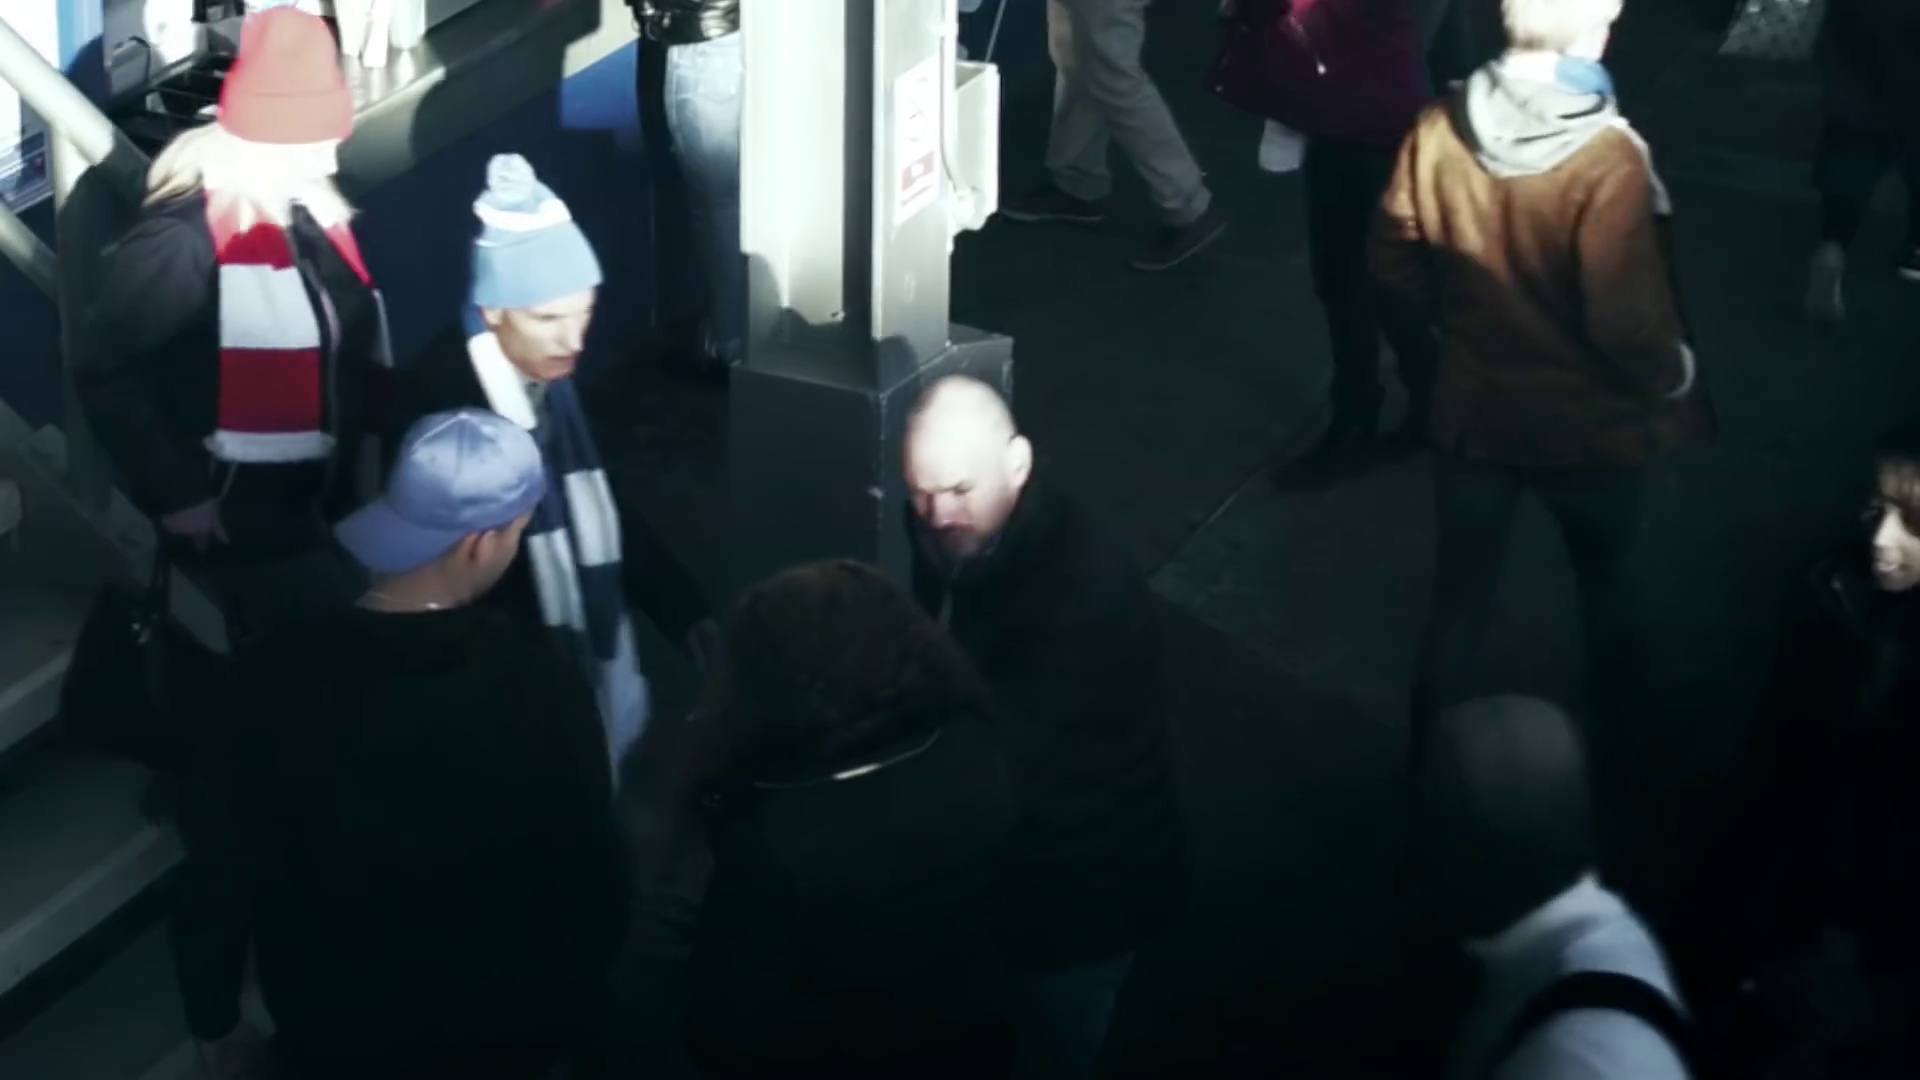face: (905, 449, 1015, 559), (509, 292, 591, 386)
